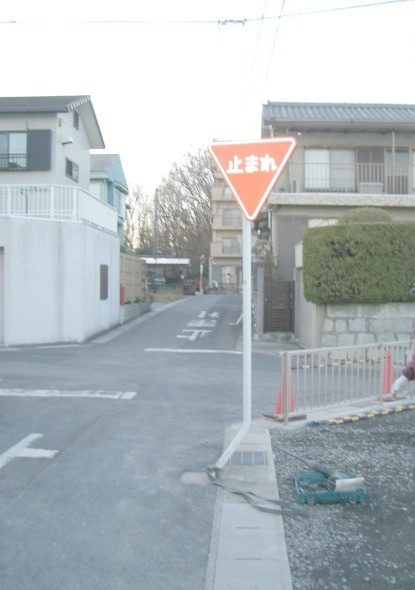Regulatory_sign_triangle: (201, 134, 311, 236)
